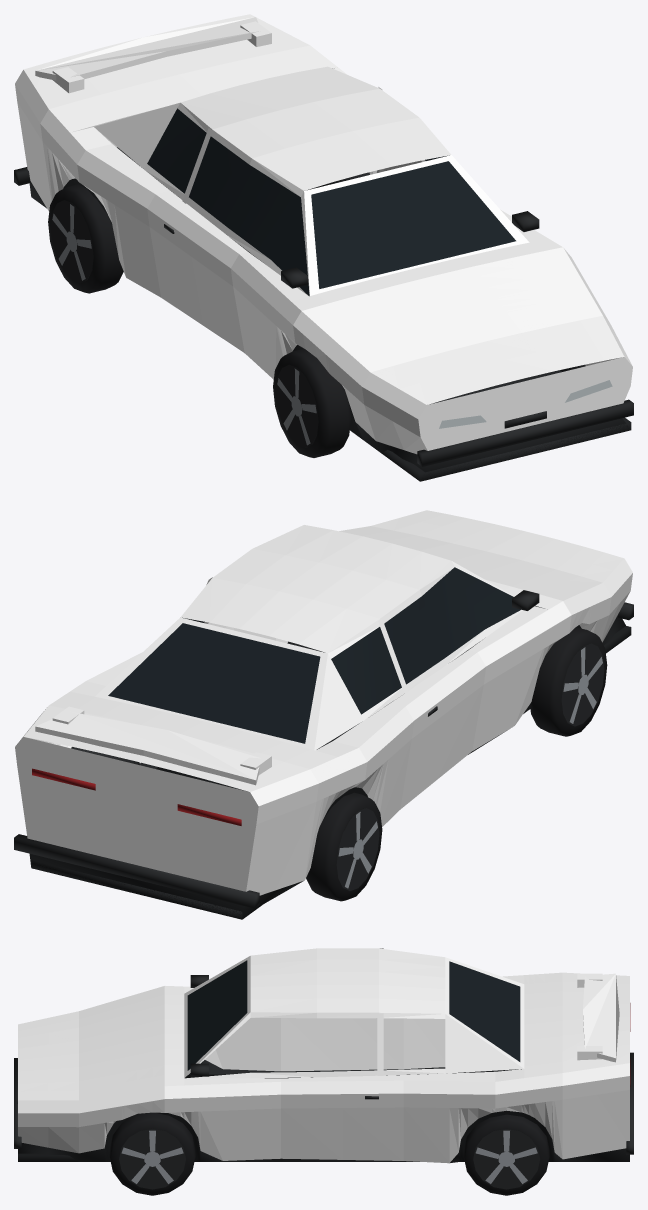
File: lindauer_acorde.glb
The picture shows the model from 3 angles, top to bottom: view 1: azimuth 30°, elevation 25°; view 2: azimuth 150°, elevation 25°; view 3: azimuth 270°, elevation 25°; orthographic projection. The views are drawn at different scales.
Visible parts, largest first — view 1: Body_Paint, Body_Details, Mount_FrontLeft_Wheel_Details, Mount_RearLeft_Wheel_Details; view 2: Body_Paint, Body_Details, Mount_FrontLeft_Wheel_Details, Mount_RearLeft_Wheel_Details; view 3: Body_Paint, Body_Details, Mount_FrontRight_Wheel_Details, Mount_RearRight_Wheel_Details.
Boxes of the visible parts, bbox=[...] form: Body_Paint: bbox=[15, 14, 632, 454]; Body_Details: bbox=[14, 108, 633, 481]; Mount_FrontLeft_Wheel_Details: bbox=[273, 348, 351, 457]; Mount_RearLeft_Wheel_Details: bbox=[48, 184, 123, 293]; Body_Paint: bbox=[15, 510, 632, 895]; Body_Details: bbox=[14, 567, 633, 919]; Mount_FrontLeft_Wheel_Details: bbox=[530, 627, 607, 736]; Mount_RearLeft_Wheel_Details: bbox=[306, 792, 382, 901]; Body_Paint: bbox=[18, 948, 629, 1163]; Body_Details: bbox=[14, 960, 633, 1162]; Mount_FrontRight_Wheel_Details: bbox=[109, 1112, 195, 1195]; Mount_RearRight_Wheel_Details: bbox=[463, 1114, 549, 1195].
Bounding box in the file's own units: 1.87 × 1.29 × 4.39.
Materials: 2 (1 with a texture image).
